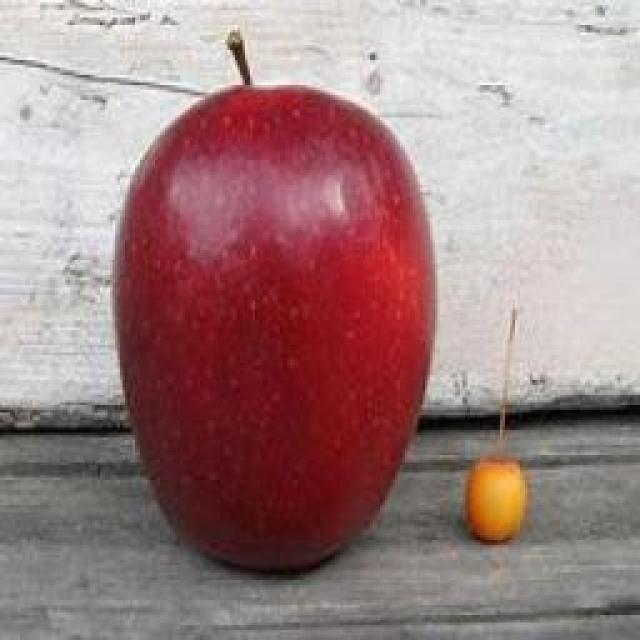Apple: (116, 85, 434, 569), (466, 458, 528, 542)
